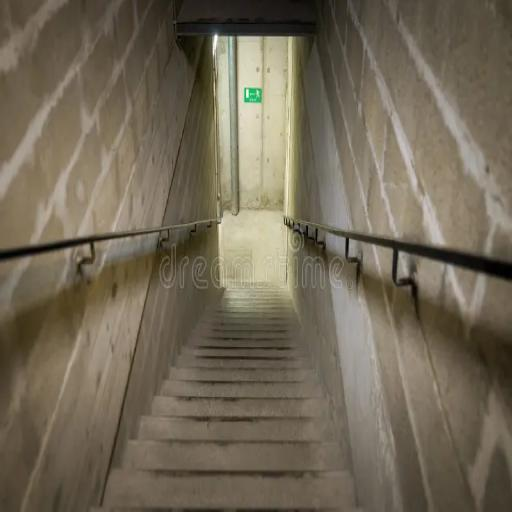stairs: (102, 287, 355, 511)
